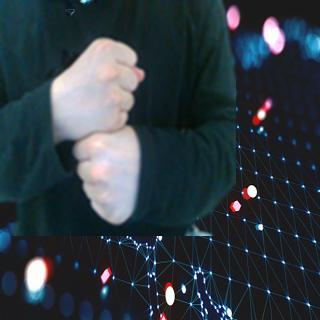CAREFUL: (49, 31, 156, 229)
